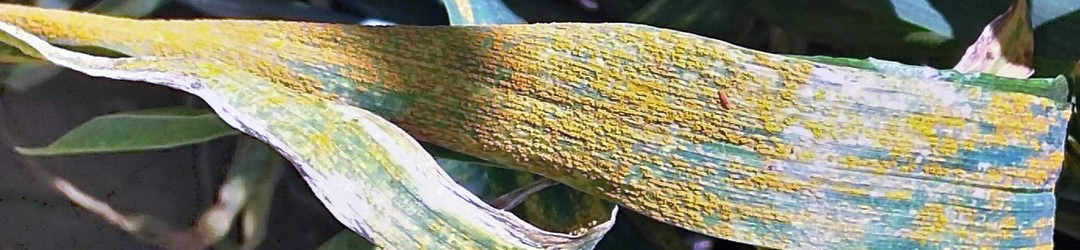Leaf Rust: (51, 10, 852, 240)
